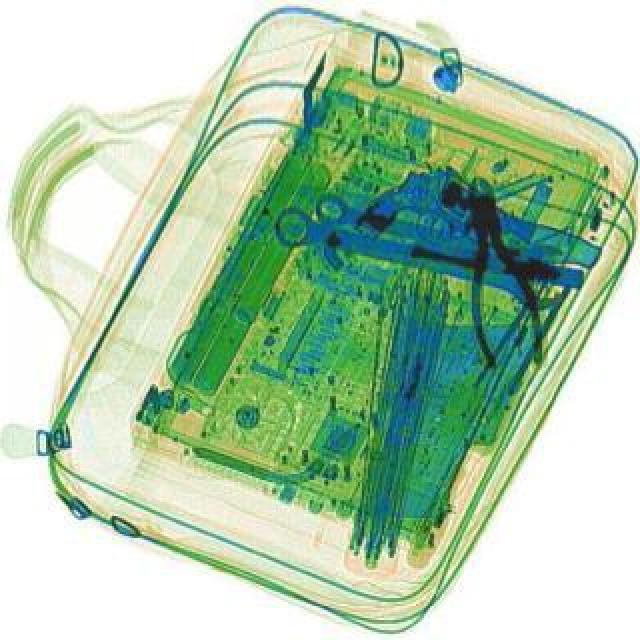gun: (350, 148, 546, 300)
scissors: (268, 200, 572, 312), (310, 182, 570, 284)
wrench: (448, 170, 554, 372)
